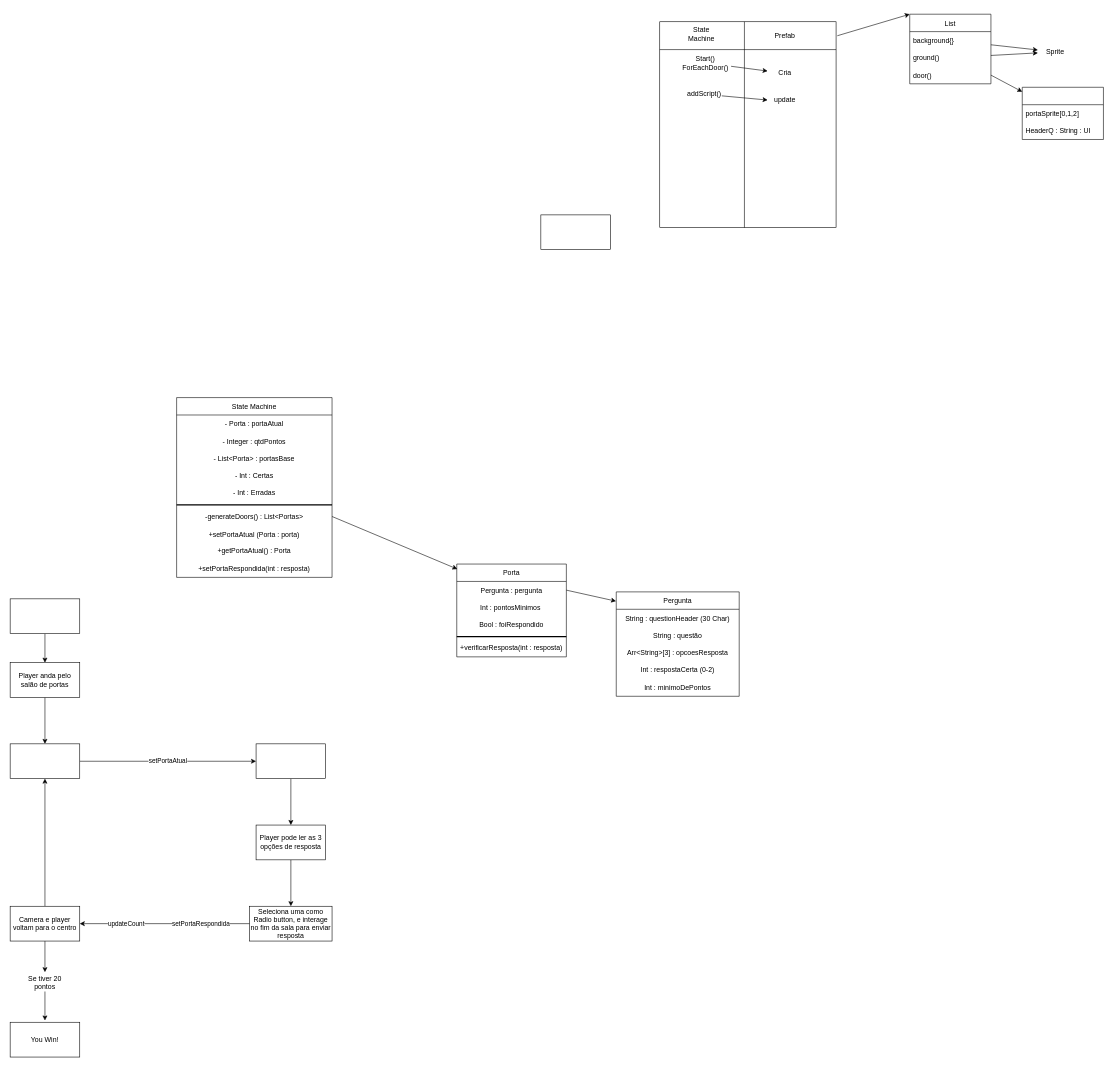
Some shapes in this 1114 by 1067 pixel diagram are drawn without their labels. Each missing label, with the box of its shape:
Camera se move pra sala atualizada com a pergunta atual: (255, 743, 326, 779)
door: (1022, 87, 1103, 139)
Game Start: (10, 598, 80, 634)
Player entra em porta: (10, 743, 80, 779)
